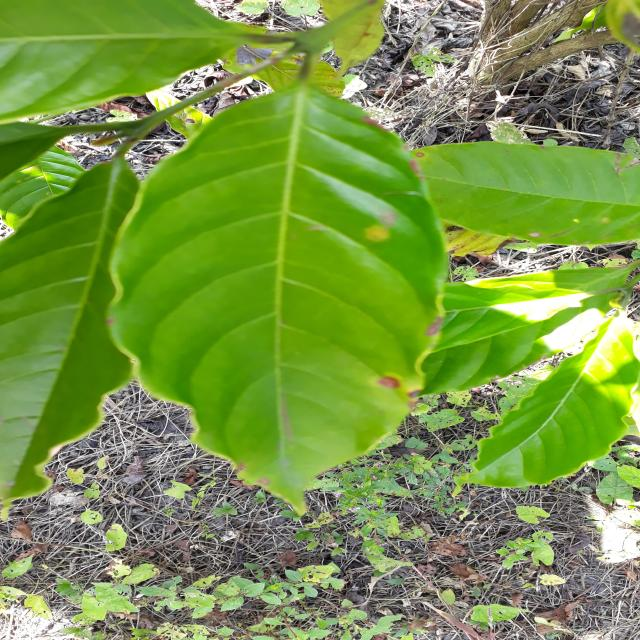Enfermedad-Roya: (108, 63, 449, 514)
